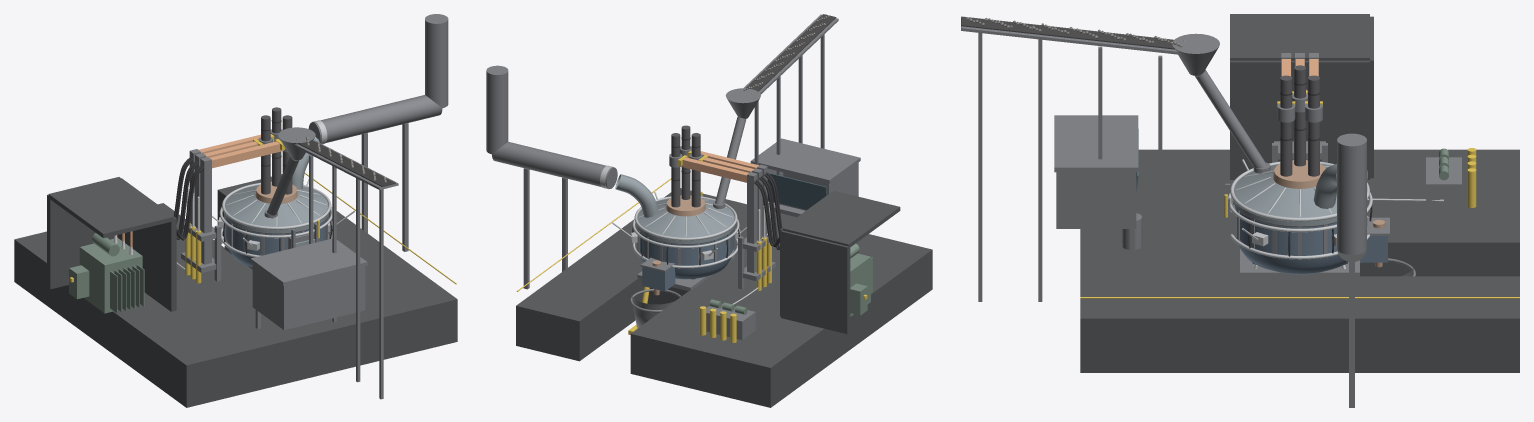
Rendered from eaf.glb.
The picture shows the model from 3 angles, left to right: view 1: azimuth 30°, elevation 25°; view 2: azimuth 150°, elevation 25°; view 3: azimuth 270°, elevation 25°; orthographic projection. The views are drawn at different scales.
Visible parts, largest first — view 1: env__platform, mesh_eaf__transformer, eaf__control, mesh_eaf__fume, mesh_eaf__drifeed, eaf__transformer_tank, mesh_eaf__roof, eaf__arms_mast, eaf__electrodes_column, eaf__arms_busstube, eaf__shell_upper, eaf__secondary_cables (+7 smaller); view 2: env__platform, mesh_eaf__transformer, mesh_eaf__fume, eaf__control, mesh_eaf__drifeed, mesh_eaf__roof, eaf__hydraulics, eaf__shell_upper, eaf__electrodes_column, eaf__arms_mast, eaf__arms_busstube, eaf__secondary_cables (+11 smaller); view 3: env__platform, mesh_eaf__transformer, eaf__control, mesh_eaf__drifeed, mesh_eaf__fume, mesh_eaf__roof, eaf__electrodes_column, eaf__hydraulics, eaf__shell_upper, eaf__drifeed_chute, eaf__shell_hearth, eaf__cooling (+6 smaller).
Boxes of the visible parts, x1,y1,x2,y2 form: env__platform: (14, 172, 457, 407); mesh_eaf__transformer: (47, 177, 176, 311); eaf__control: (250, 238, 367, 329); mesh_eaf__fume: (308, 14, 448, 251); mesh_eaf__drifeed: (278, 127, 398, 399); eaf__transformer_tank: (79, 233, 144, 313); mesh_eaf__roof: (222, 182, 331, 233); eaf__arms_mast: (189, 149, 211, 264); eaf__electrodes_column: (261, 107, 292, 194); eaf__arms_busstube: (198, 134, 283, 168); eaf__shell_upper: (224, 213, 329, 255); eaf__secondary_cables: (174, 157, 203, 240); env__platform: (516, 178, 932, 407); mesh_eaf__transformer: (780, 191, 900, 334); mesh_eaf__fume: (486, 65, 617, 289); eaf__control: (750, 138, 860, 216); mesh_eaf__drifeed: (725, 14, 838, 175); mesh_eaf__roof: (634, 196, 737, 243); eaf__hydraulics: (642, 286, 758, 342); eaf__shell_upper: (636, 226, 735, 265); eaf__electrodes_column: (671, 125, 700, 207); eaf__arms_mast: (747, 164, 767, 273); eaf__arms_busstube: (679, 151, 758, 182); eaf__secondary_cables: (754, 172, 782, 249); env__platform: (1080, 149, 1519, 372); mesh_eaf__transformer: (1230, 14, 1373, 179); eaf__control: (1054, 115, 1138, 253); mesh_eaf__drifeed: (961, 16, 1219, 301); mesh_eaf__fume: (1336, 133, 1367, 407); mesh_eaf__roof: (1230, 161, 1369, 225); eaf__electrodes_column: (1280, 65, 1319, 176); eaf__hydraulics: (1254, 148, 1476, 269); eaf__shell_upper: (1232, 200, 1367, 255); eaf__drifeed_chute: (1195, 69, 1270, 173); eaf__shell_hearth: (1236, 237, 1348, 274); eaf__cooling: (1228, 192, 1372, 259).
Size of the model in its own units: 28.85 by 15.8 by 27.97.
